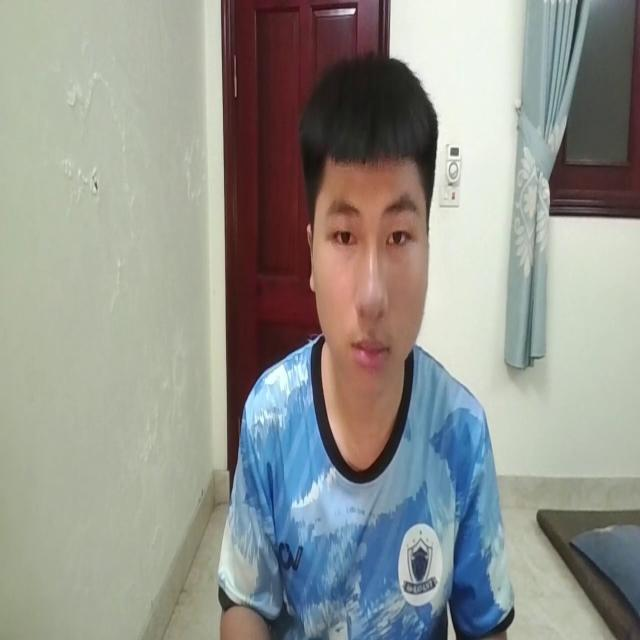student: (204, 42, 514, 640)
